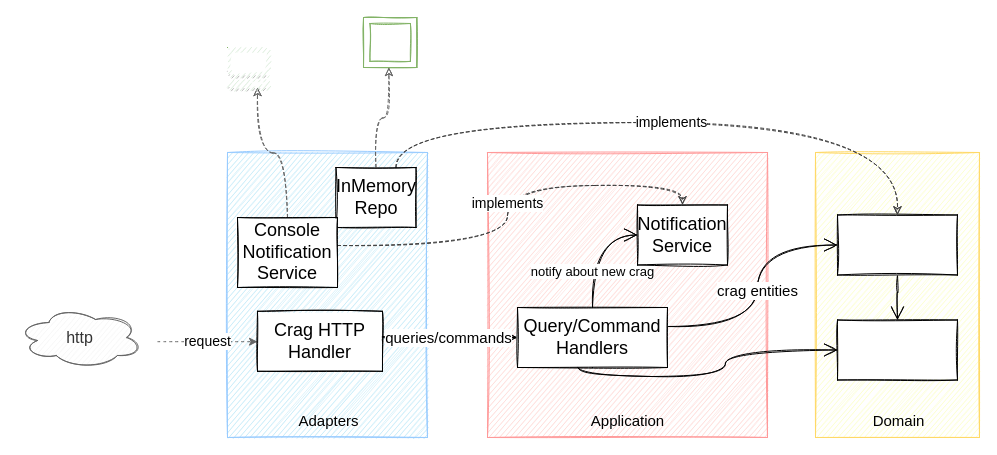
The diagram is 997 pixels wide and 455 high, and some of its shapes have lost their labels. Here are the shapes that lost their labels. From the top down, the centre of each, then its label:
[389,41]: Memory
[897,244]: Repository
[897,349]: Crag
